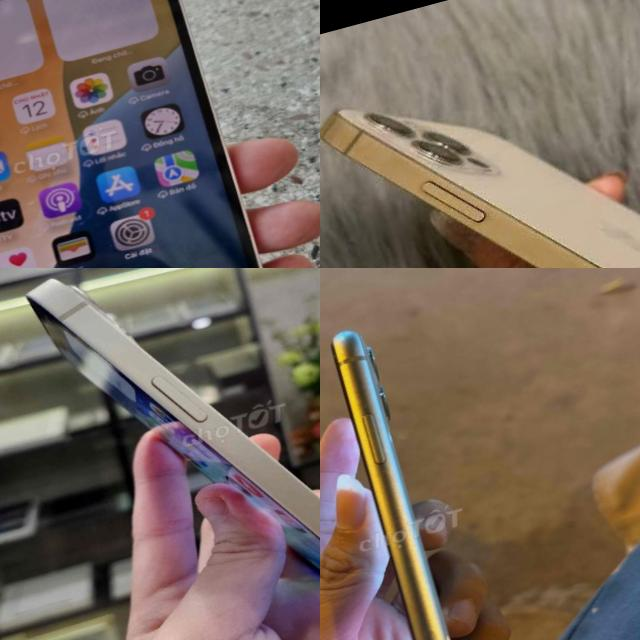gen_11: (331, 330, 451, 640)
gen_12_13: (10, 268, 320, 640), (320, 0, 640, 268), (0, 0, 303, 268)
